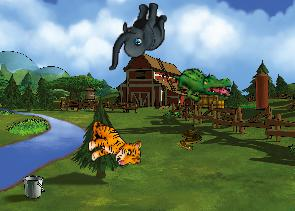crocodile: (169, 61, 234, 107)
elephant: (108, 0, 167, 72)
tiger: (87, 121, 141, 166)
